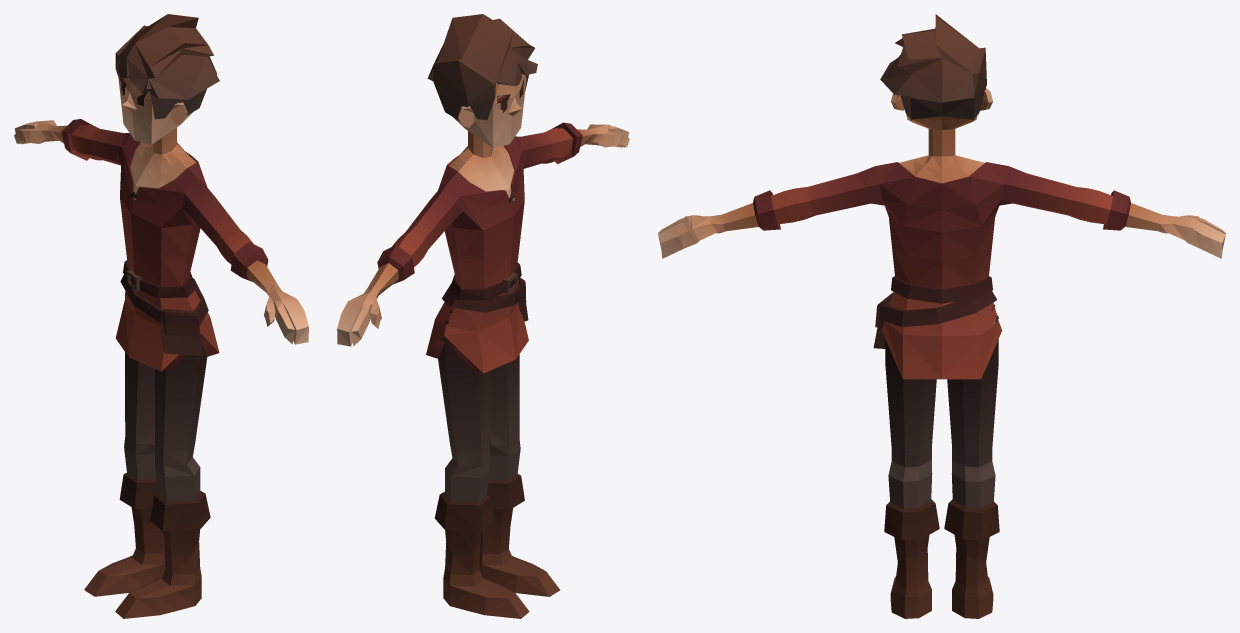
The model's file is modello.gltf.
3 views of the same model, side by side, from view 1: azimuth 30°, elevation 25°; view 2: azimuth 150°, elevation 25°; view 3: azimuth 270°, elevation 25° (orthographic). The views are drawn at different scales.
Bounding box in the file's own units: 67.39 × 345 × 300.
1 material, 1 textured.
